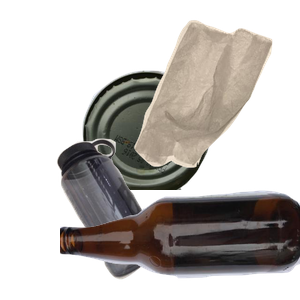glass: (60, 188, 300, 300)
metal: (80, 68, 284, 248)
plastic: (54, 136, 209, 300)
trash: (132, 17, 300, 177)
